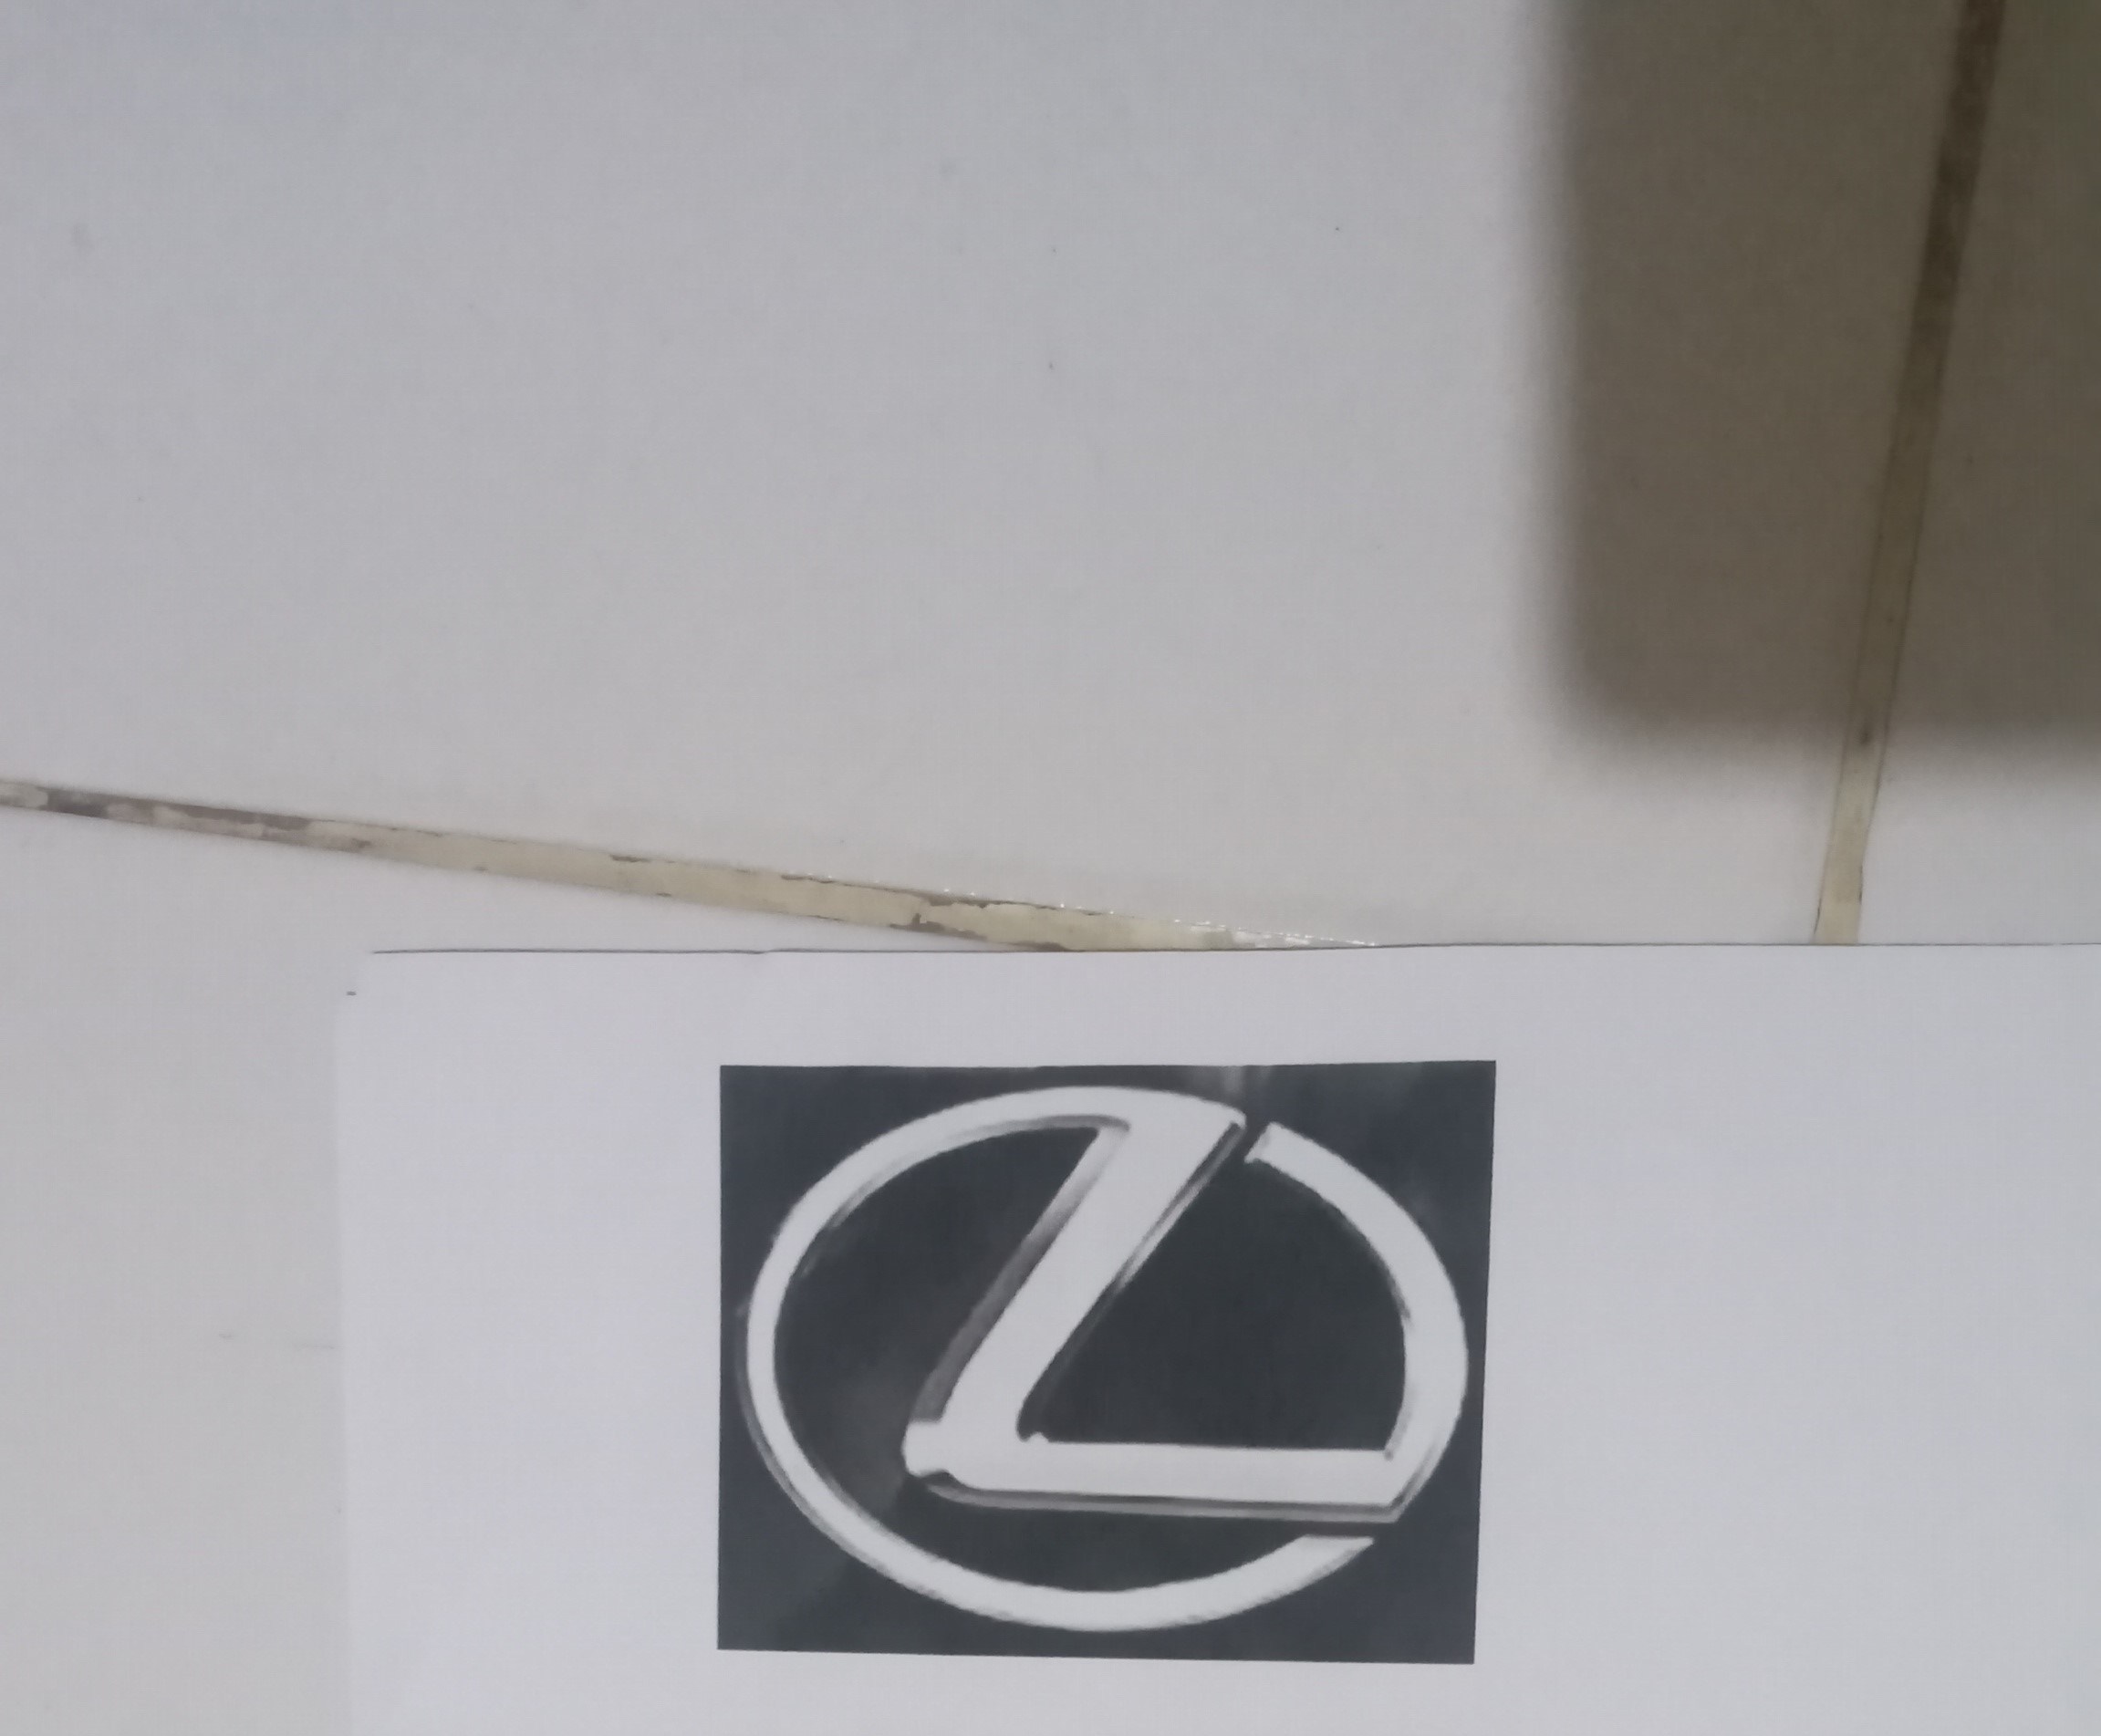Lexus: (717, 1066, 1476, 1666)
